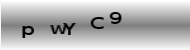9: (108, 11, 122, 24)
C: (90, 16, 104, 30)
Y: (62, 22, 76, 36)
p: (20, 25, 34, 39)
w: (48, 24, 67, 34)
